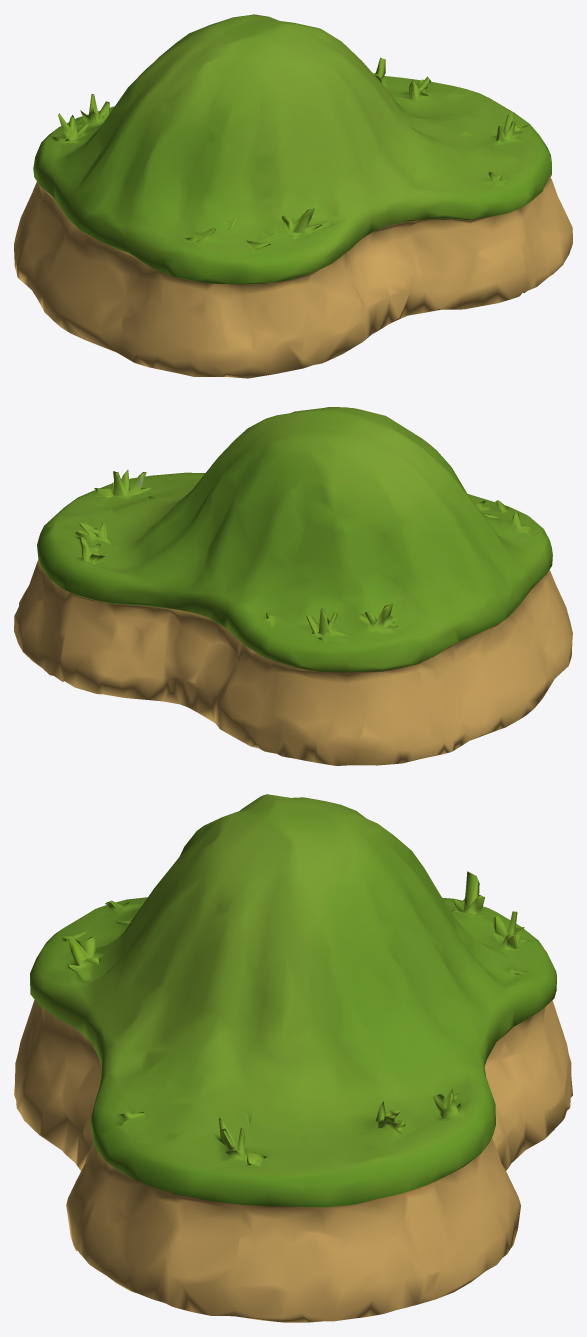
3 views of the same model, one above another, from view 1: azimuth 30°, elevation 25°; view 2: azimuth 150°, elevation 25°; view 3: azimuth 270°, elevation 25° (orthographic). The views are drawn at different scales.
Parts seen in each view (by area): view 1: tripo_node_b28bc3b9-b58d-43a4-a9c5-076b973c80c4; view 2: tripo_node_b28bc3b9-b58d-43a4-a9c5-076b973c80c4; view 3: tripo_node_b28bc3b9-b58d-43a4-a9c5-076b973c80c4.
Part boxes in pixels (x1,y1,x2,y2): tripo_node_b28bc3b9-b58d-43a4-a9c5-076b973c80c4: [14, 14, 572, 378]; tripo_node_b28bc3b9-b58d-43a4-a9c5-076b973c80c4: [14, 407, 572, 765]; tripo_node_b28bc3b9-b58d-43a4-a9c5-076b973c80c4: [14, 794, 572, 1322].
Bounding box in the file's own units: 1 × 0.5034 × 0.7788.
Materials: 1 (1 with a texture image).
